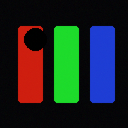2 circle: (24, 28, 46, 50)
